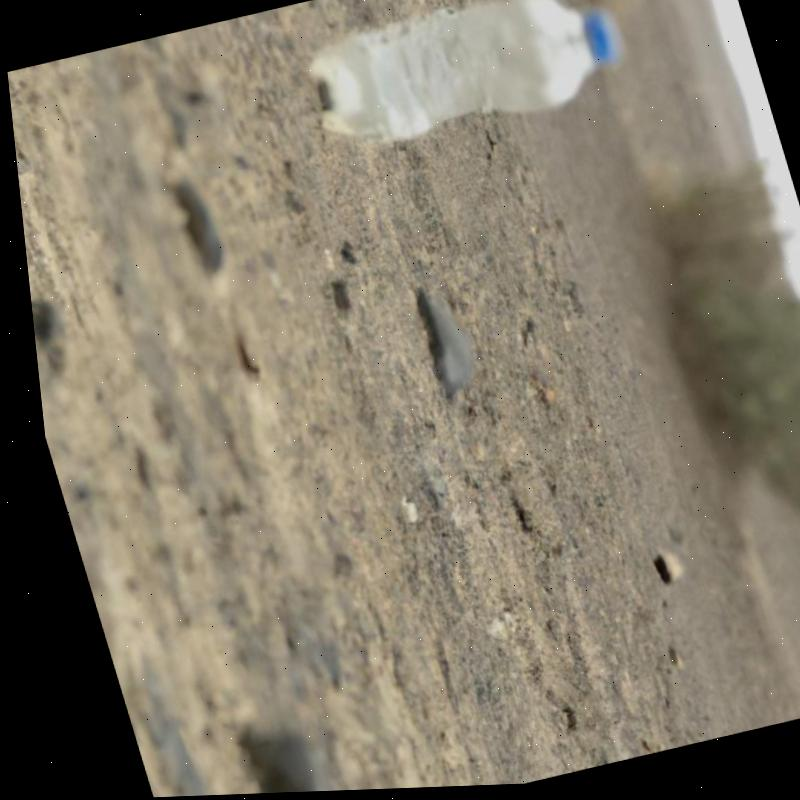botella: (291, 0, 636, 166)
